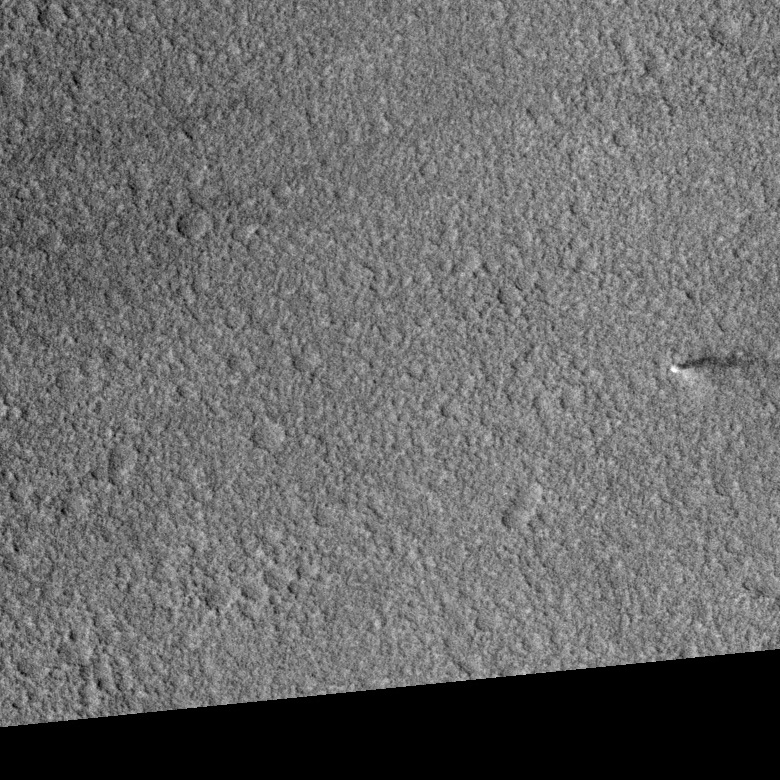dust_devil: (668, 352, 773, 383)
